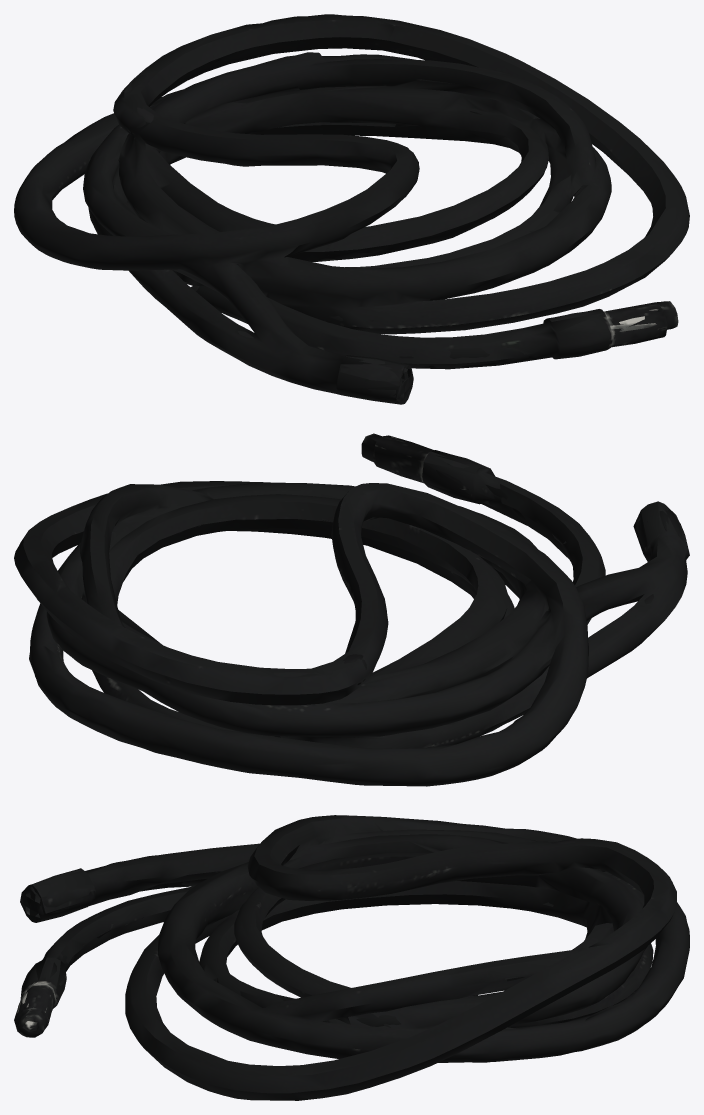
File: 19_debris_cable_coil.fbx
3 renders of one model, top to bottom at view 1: azimuth 30°, elevation 25°; view 2: azimuth 150°, elevation 25°; view 3: azimuth 270°, elevation 25°, orthographic. The views are drawn at different scales.
Visible parts, largest first — view 1: 19_debris_cable_coil; view 2: 19_debris_cable_coil; view 3: 19_debris_cable_coil.
Boxes of the visible parts, x1,y1,x2,y2 form: 19_debris_cable_coil: [14, 14, 689, 404]; 19_debris_cable_coil: [14, 433, 689, 786]; 19_debris_cable_coil: [14, 815, 689, 1100].
Bounding box in the file's own units: 1.09 × 0.227 × 1.2.
Materials: 1 (1 with a texture image).
